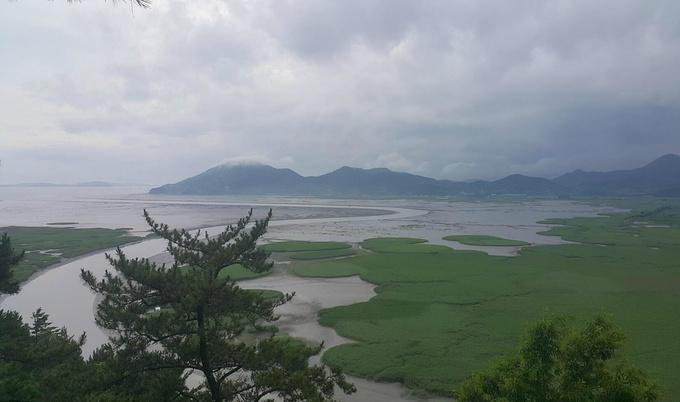mountain: (173, 158, 659, 207)
sea_river: (39, 174, 161, 225)
sky_cloud: (6, 54, 679, 156)
